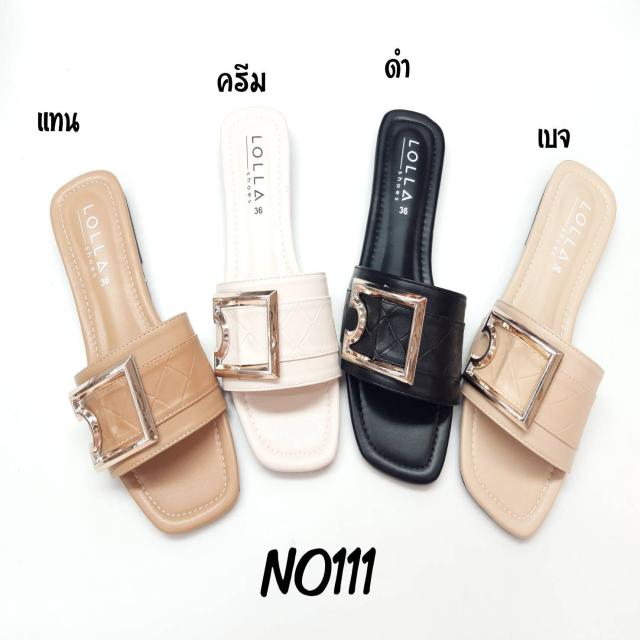bej: (456, 156, 626, 534)
black: (345, 109, 467, 485)
cream: (219, 85, 343, 472)
tan: (50, 160, 233, 526)
